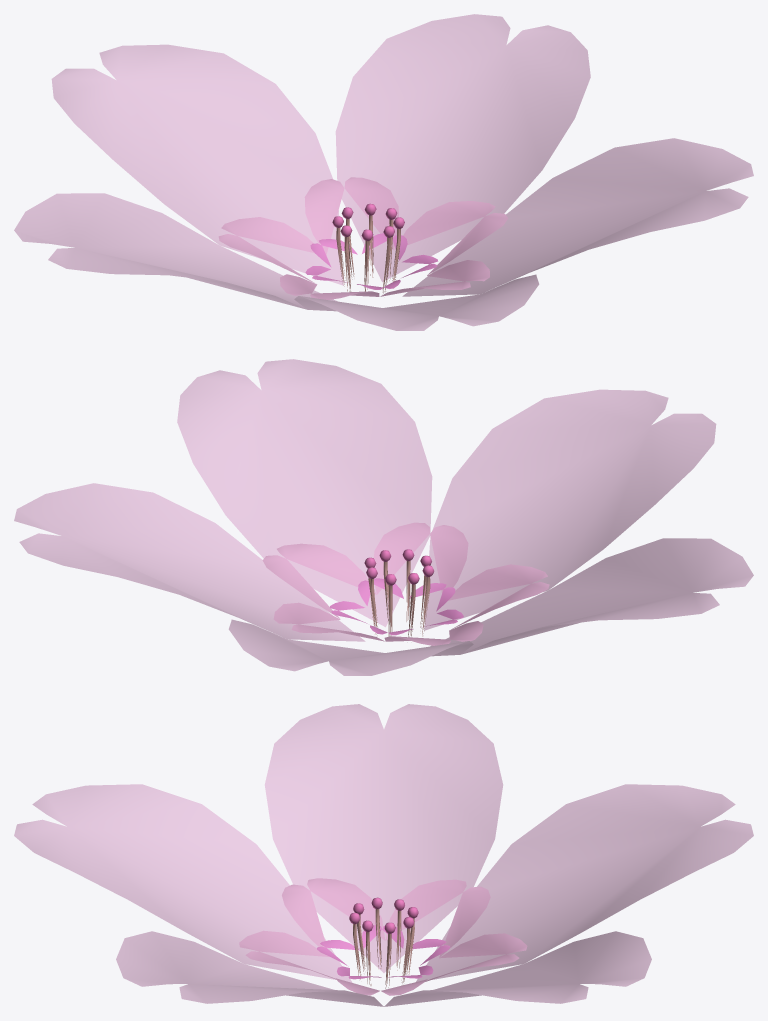
The picture shows the model from 3 angles, top to bottom: view 1: azimuth 30°, elevation 25°; view 2: azimuth 150°, elevation 25°; view 3: azimuth 270°, elevation 25°; orthographic projection.
Visible parts, largest first — view 1: f29ad94b; view 2: f29ad94b; view 3: f29ad94b.
Part boxes in pixels (<box>): f29ad94b: <box>14,14,753,330</box>; f29ad94b: <box>14,359,753,675</box>; f29ad94b: <box>14,704,753,1006</box>.
Bounding box in the file's own units: 0.0484 × 0.00928 × 0.0504.
Materials: 1 (1 with a texture image).
